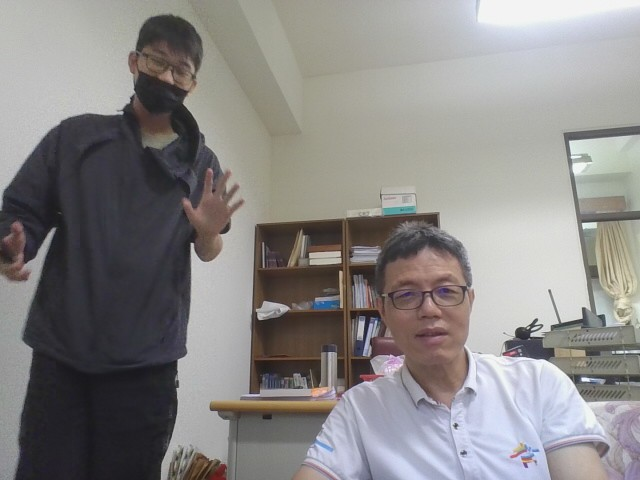No_Gloves: (179, 165, 246, 241), (0, 215, 35, 284)
No_Helmet: (370, 217, 478, 371), (124, 10, 205, 123)
person: (0, 2, 254, 478), (261, 202, 631, 480)
